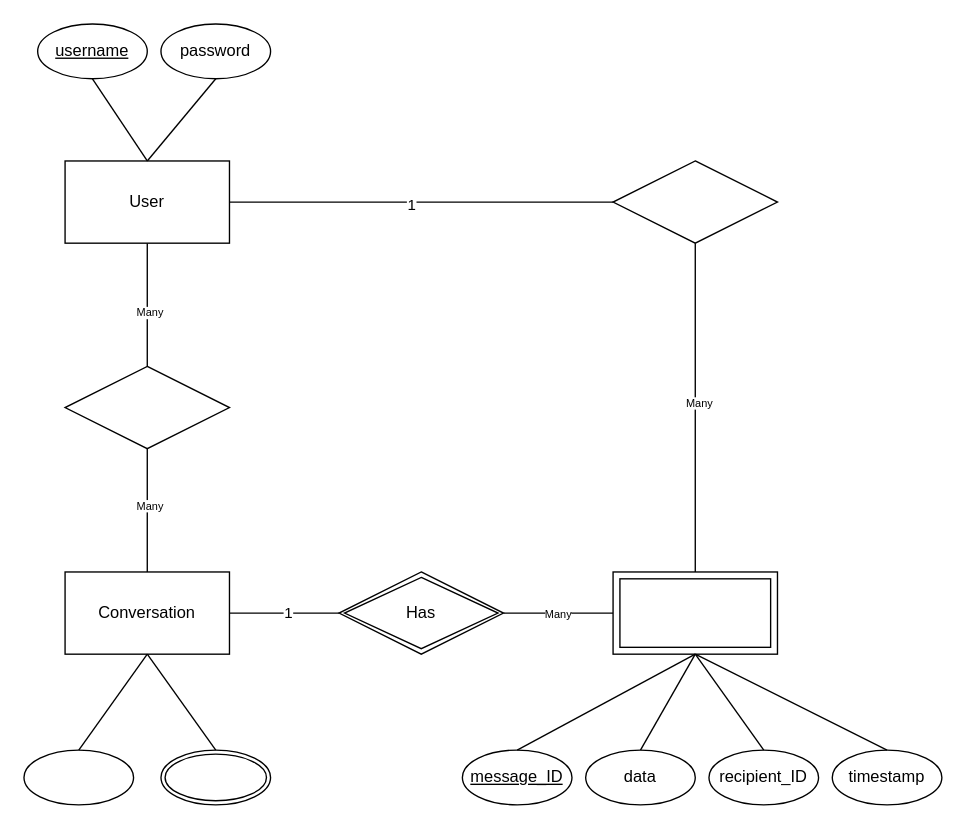
Some shapes in this 966 by 829 pixel diagram are drawn without their labels. The centre of each missing label's shape, as x and y in pixels:
"convo_ID" goes at [78,777].
"Engages In" goes at [146,407].
"Message" goes at [694,612].
"Sends" goes at [694,201].
"user_IDs" goes at [215,777].
